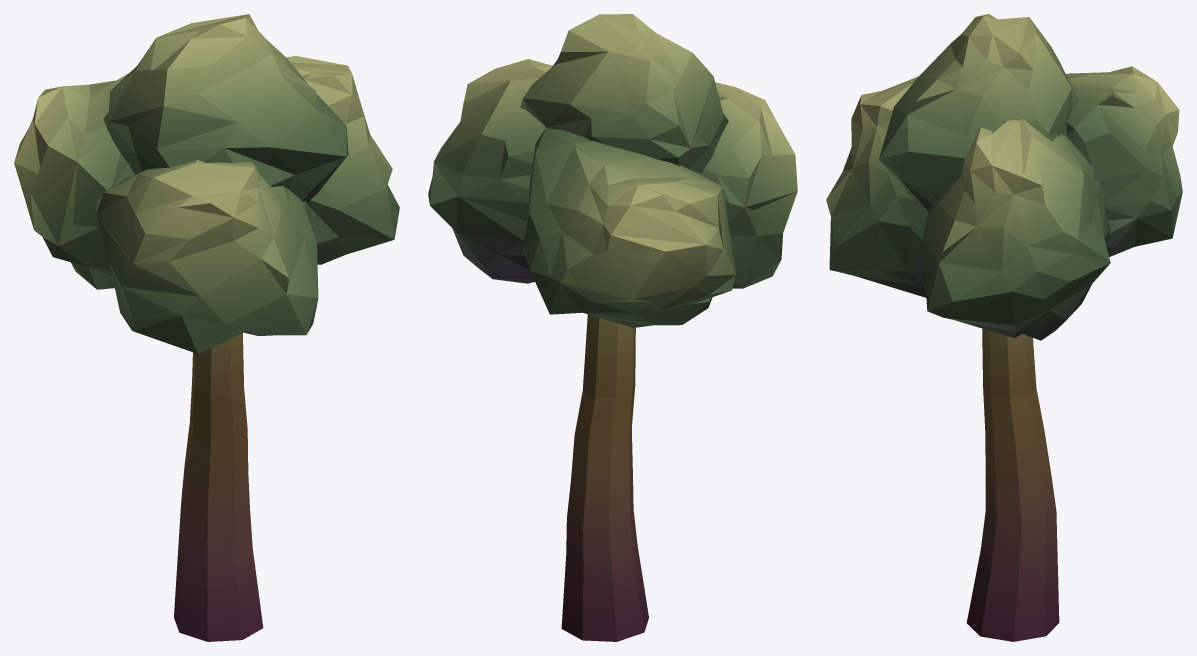
The model's file is Tree_03.fbx.
3 renders of one model, left to right at view 1: azimuth 30°, elevation 25°; view 2: azimuth 150°, elevation 25°; view 3: azimuth 270°, elevation 25°, orthographic. The views are drawn at different scales.
Parts seen in each view (by area): view 1: treetop7; view 2: treetop7; view 3: treetop7.
Boxes of the visible parts, bbox=[...] form: treetop7: bbox=[14, 14, 399, 641]; treetop7: bbox=[428, 14, 797, 641]; treetop7: bbox=[826, 14, 1182, 641].
Bounding box in the file's own units: 422 × 783 × 422.
